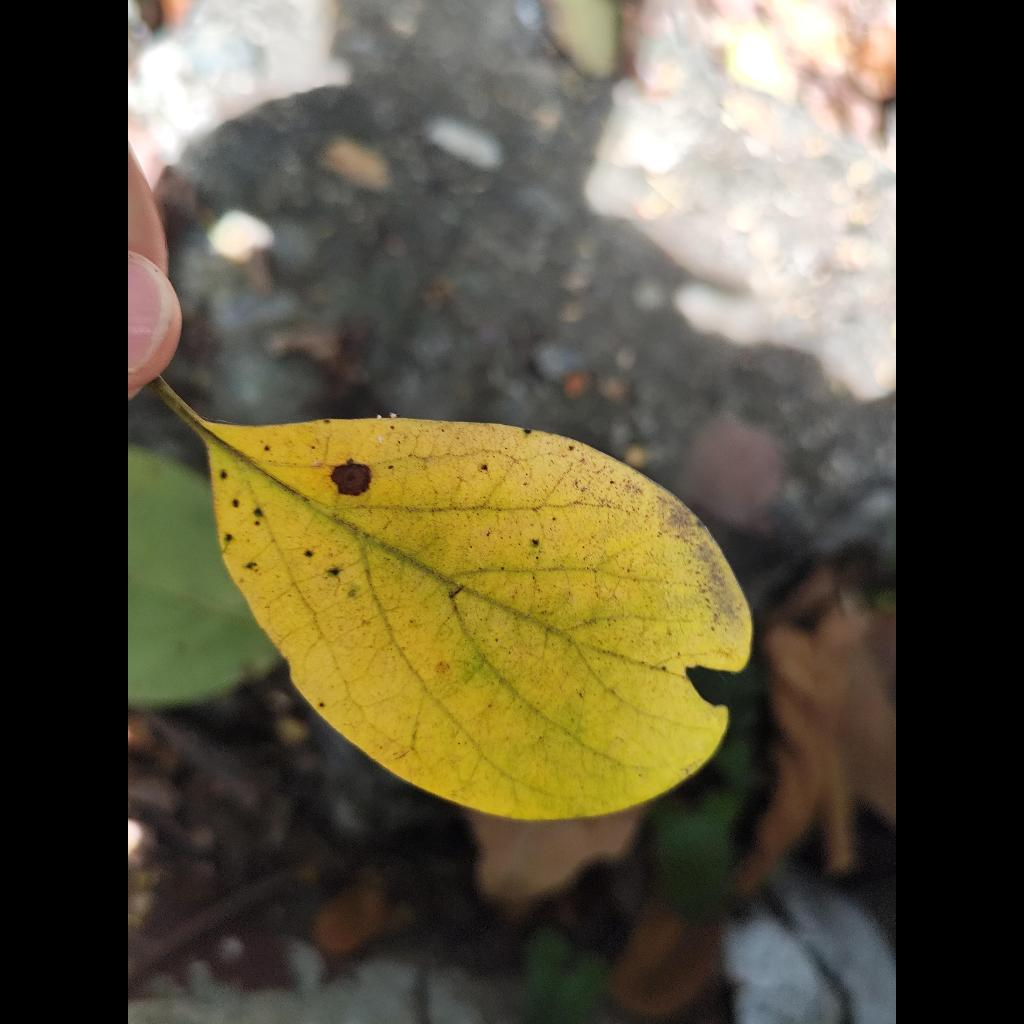nutrient_deficiency: (154, 381, 751, 820)
